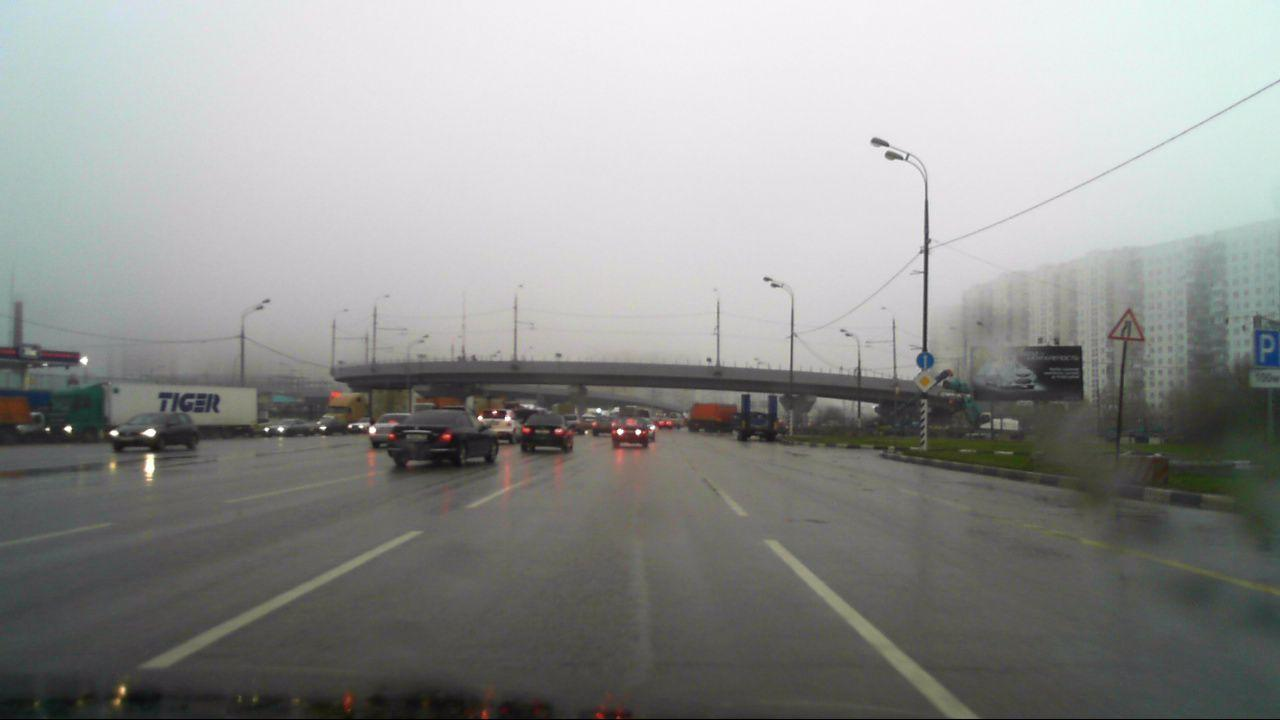1_20_3: (1107, 306, 1147, 343)
2_1: (913, 371, 937, 393)
4_1_1: (915, 350, 936, 371)
6_4: (1252, 330, 1280, 366)
8_1_1: (1247, 369, 1279, 387)
